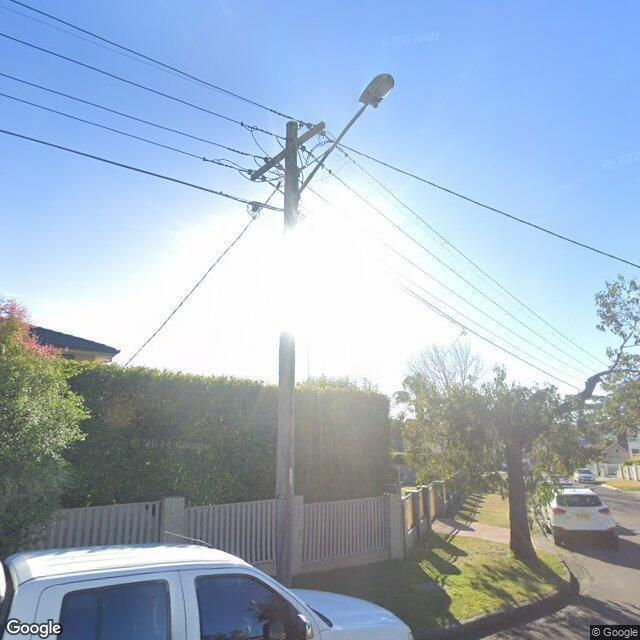crossarm: (250, 120, 327, 184)
streetlight: (290, 72, 396, 222)
timber-pole: (274, 122, 296, 582)
